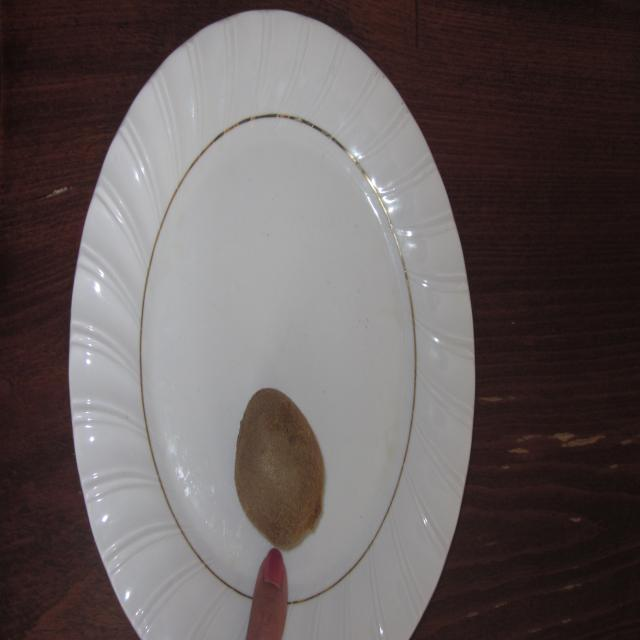kiwi: (232, 383, 326, 551)
